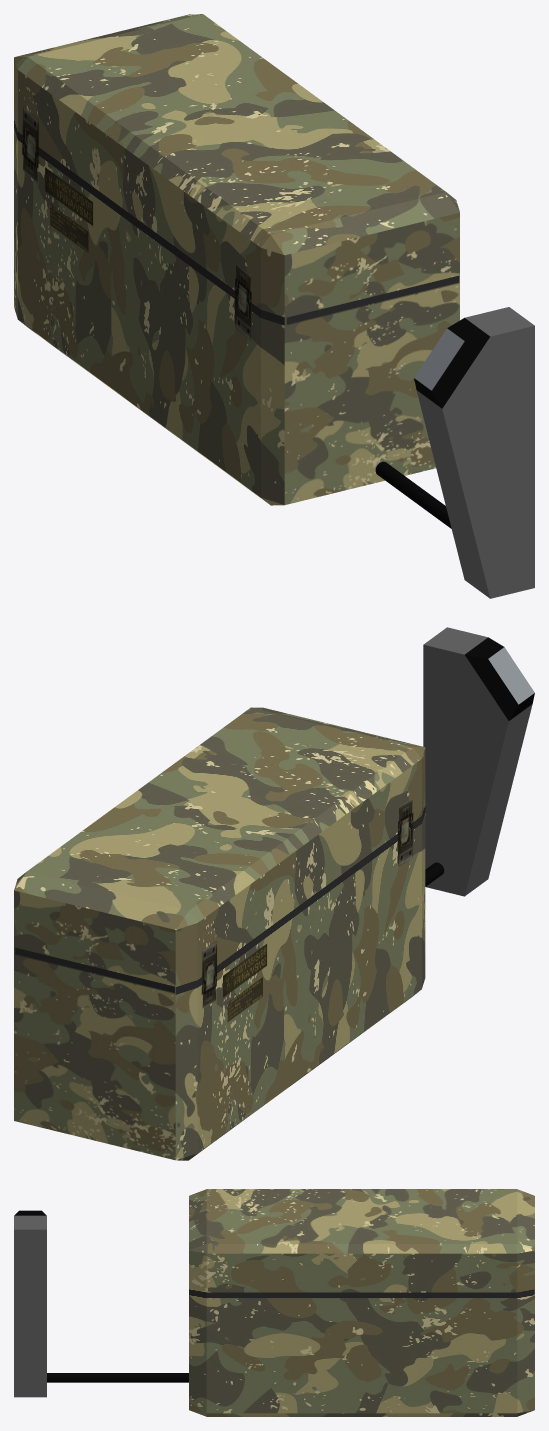
File: chest.glb
3 views of the same model, one above another, from view 1: azimuth 30°, elevation 25°; view 2: azimuth 150°, elevation 25°; view 3: azimuth 270°, elevation 25° (orthographic). The views are drawn at different scales.
Visible parts, largest first — view 1: chest, keypad, cord; view 2: chest, keypad; view 3: chest, keypad, cord.
Part boxes in pixels (box(x1,y1,x2,y2)): chest: box(14, 14, 459, 505); keypad: box(414, 307, 534, 598); cord: box(375, 461, 451, 528); chest: box(14, 707, 425, 1160); keypad: box(423, 627, 534, 896); chest: box(189, 1189, 534, 1416); keypad: box(14, 1210, 46, 1397); cord: box(47, 1373, 188, 1382).
Bounding box in the file's own units: 1 × 1.32 × 3.61.
5 materials, 1 textured.
